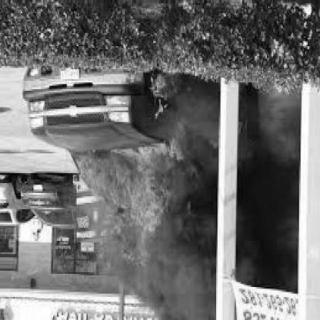Fire: (74, 142, 192, 265), (143, 67, 180, 117)
Smoke: (149, 145, 285, 319)
